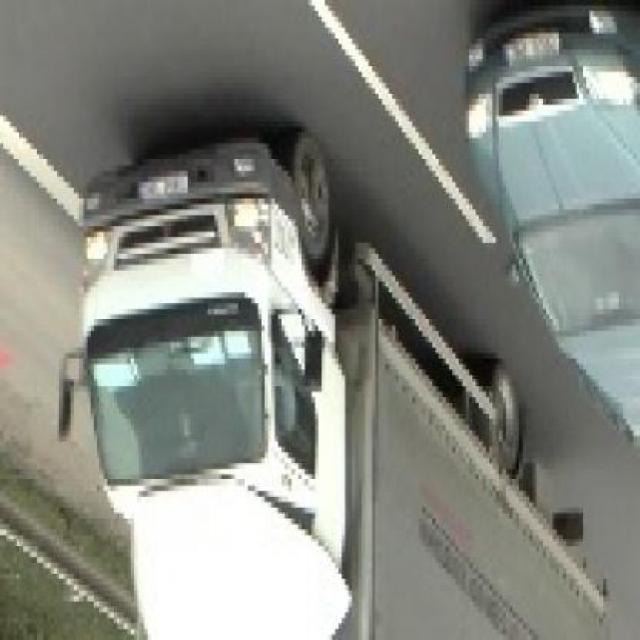truck: (62, 127, 611, 640)
